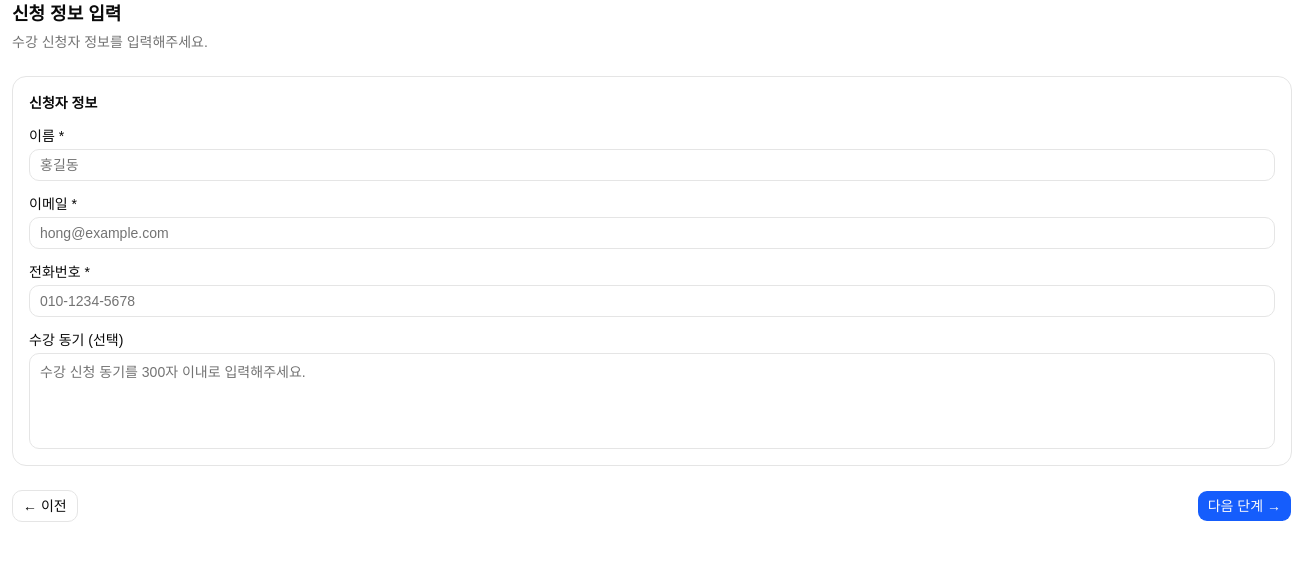
Test: Step2PersonalInfo › 이름 1자 입력 후 blur 시 에러 메시지를 표시한다
Type "김" into the field with placeholder "홍길동".
click(652, 165); type("김")  # box left=29, top=149, right=1275, bottom=181
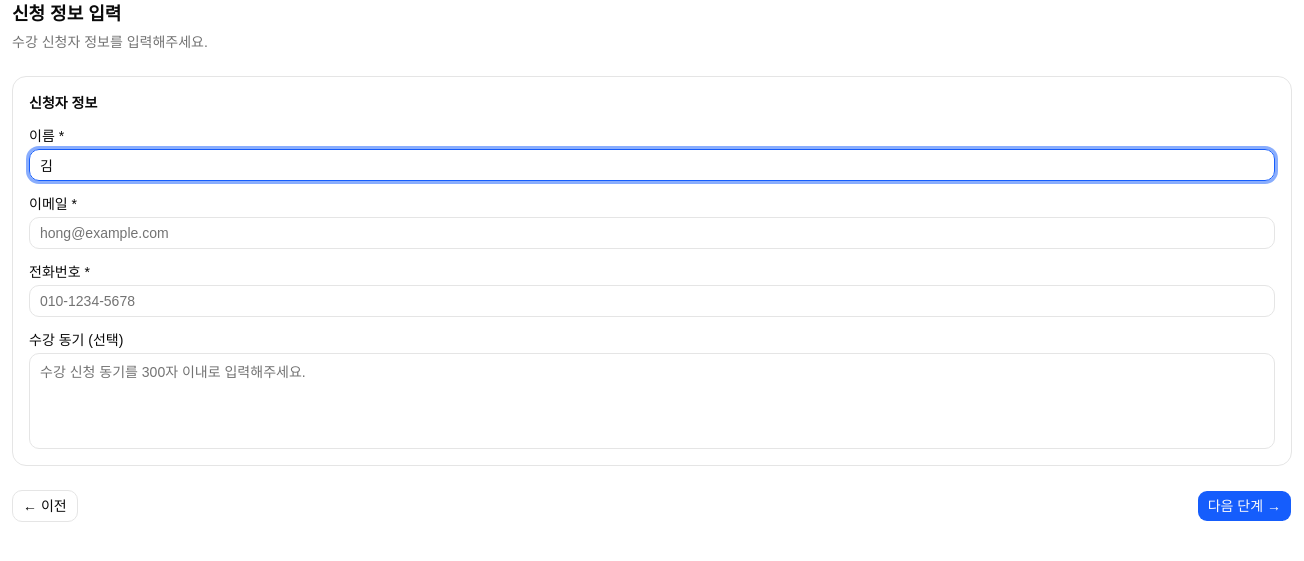
Press Tab
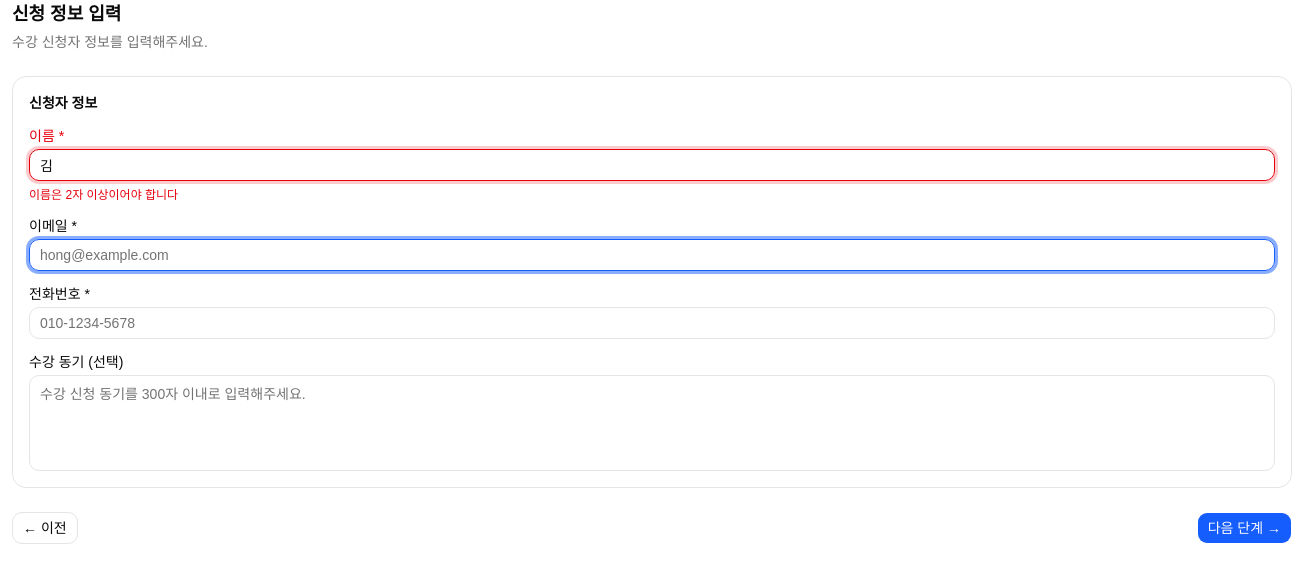
expect the text "이름은 2자 이상이어야 합니다" is shown: met, box left=29, top=188, right=178, bottom=202
